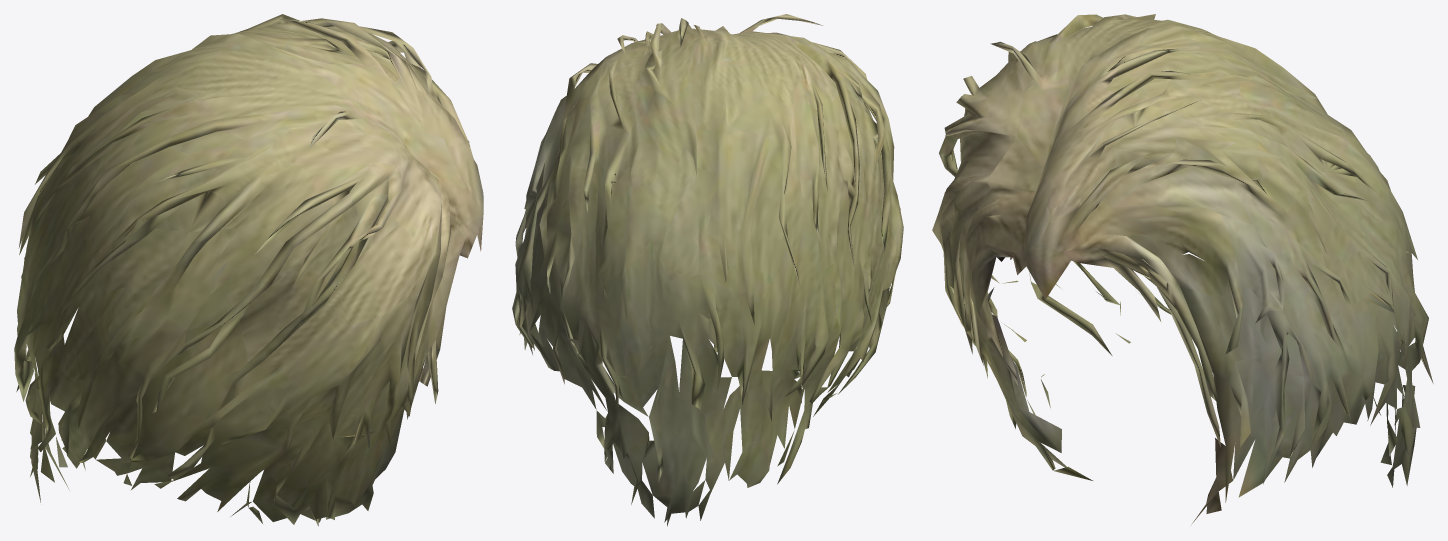
Rendered from eddie-hair.glb.
3 renders of one model, left to right at view 1: azimuth 30°, elevation 25°; view 2: azimuth 150°, elevation 25°; view 3: azimuth 270°, elevation 25°, orthographic. The views are drawn at different scales.
Visible parts, largest first — view 1: tripo_node_eda89ef2-1c89-47f9-b524-86357e6f7e70; view 2: tripo_node_eda89ef2-1c89-47f9-b524-86357e6f7e70; view 3: tripo_node_eda89ef2-1c89-47f9-b524-86357e6f7e70.
Part boxes in pixels (left/top/right/bottom): tripo_node_eda89ef2-1c89-47f9-b524-86357e6f7e70: left=14, top=14, right=483, bottom=526; tripo_node_eda89ef2-1c89-47f9-b524-86357e6f7e70: left=512, top=14, right=903, bottom=526; tripo_node_eda89ef2-1c89-47f9-b524-86357e6f7e70: left=932, top=14, right=1433, bottom=524.
Size of the model in its own units: 0.3434 by 0.4133 by 0.3768.
Materials: 1 (1 with a texture image).
